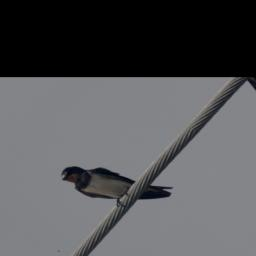Swallow: (54, 146, 177, 224)
